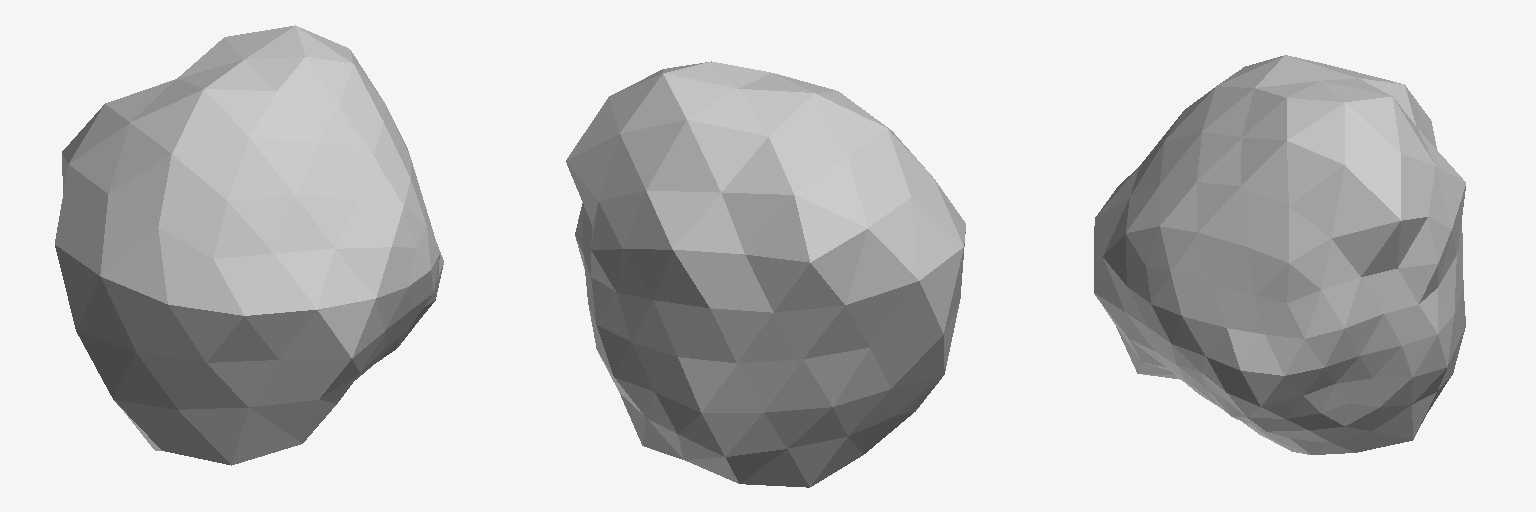
File: asteroid.obj
The picture shows the model from 3 angles: view 1: azimuth 30°, elevation 25°; view 2: azimuth 150°, elevation 25°; view 3: azimuth 270°, elevation 25°; orthographic projection.
Parts seen in each view (by area): view 1: Icosphere_Icosphere.001; view 2: Icosphere_Icosphere.001; view 3: Icosphere_Icosphere.001.
Part boxes in pixels (x1,y1,x2,y2): Icosphere_Icosphere.001: (55,25,443,465); Icosphere_Icosphere.001: (566,61,965,487); Icosphere_Icosphere.001: (1094,55,1465,454).
Bounding box in the file's own units: 1.68 × 1.71 × 1.53.